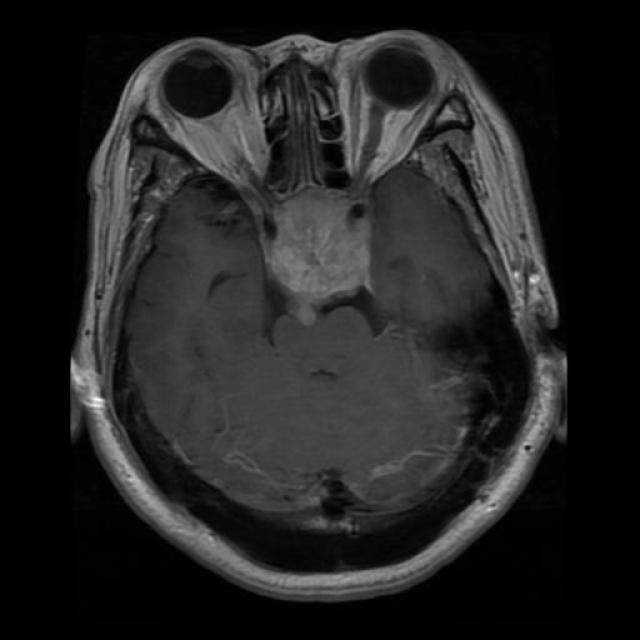pituitary: (246, 220, 404, 352)
